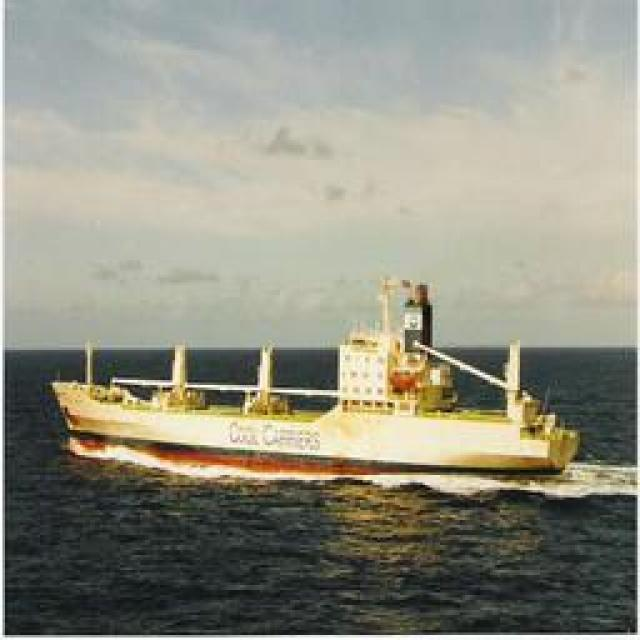CIV_Ship: (56, 342, 592, 480)
